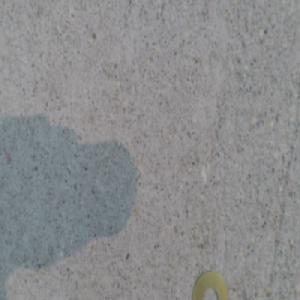Washer: (192, 269, 229, 299)
